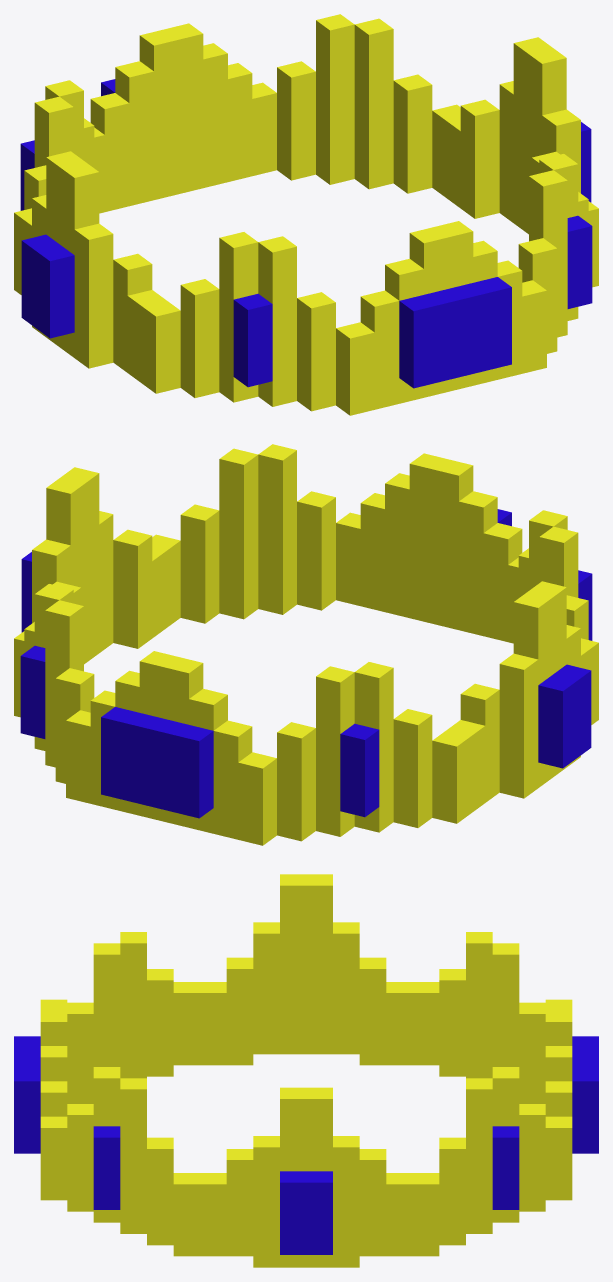
File: MuñecoNieve-1.obj
The picture shows the model from 3 angles, top to bottom: view 1: azimuth 30°, elevation 25°; view 2: azimuth 150°, elevation 25°; view 3: azimuth 270°, elevation 25°; orthographic projection. The views are drawn at different scales.
Bounding box in the file's own units: 2.2 × 0.7 × 2.2.
Materials: 1 (1 with a texture image).
